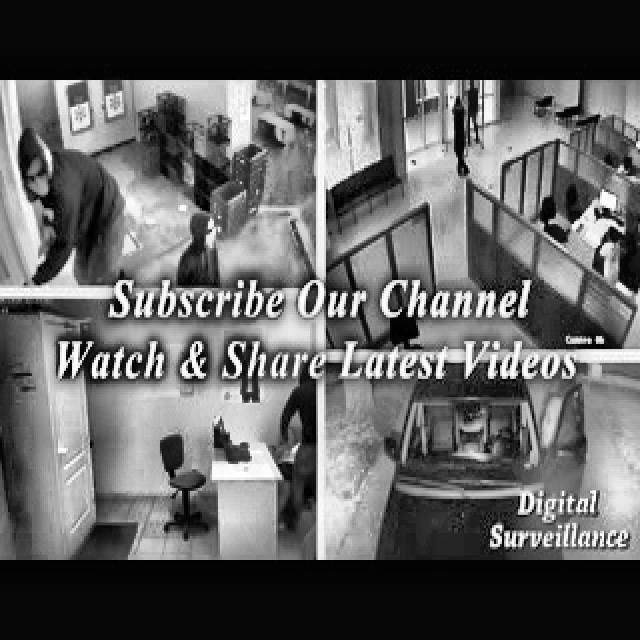robbery: (272, 378, 316, 536)
